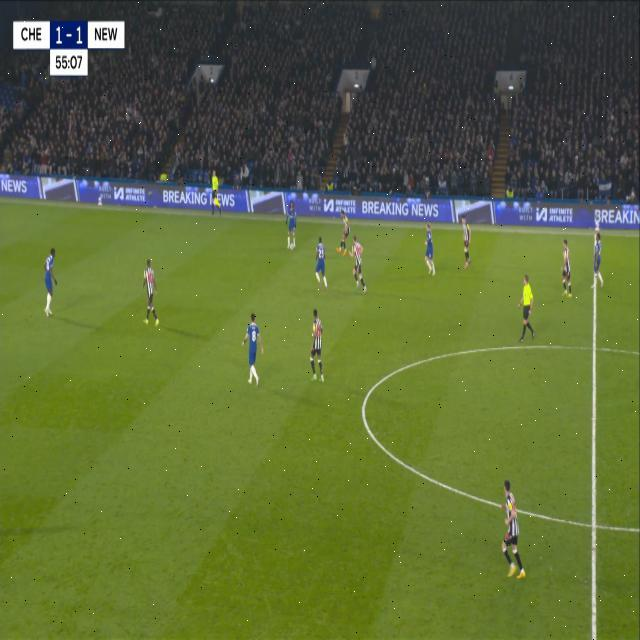Ball: (288, 238, 294, 255)
Chelsea: (240, 306, 266, 391), (40, 242, 60, 320), (591, 230, 607, 296), (313, 231, 330, 293), (422, 222, 439, 281), (284, 198, 299, 258)
Newcastle: (498, 475, 528, 585), (140, 255, 162, 334), (308, 304, 326, 386), (558, 234, 576, 302), (348, 233, 368, 293), (336, 210, 351, 262), (460, 212, 472, 272)
Refree: (516, 269, 538, 346)
